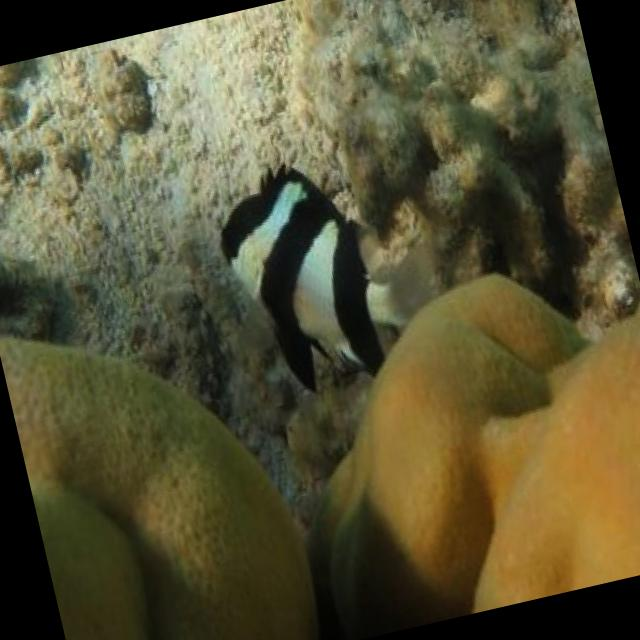Three_striped DasmselFish: (199, 126, 464, 395)
